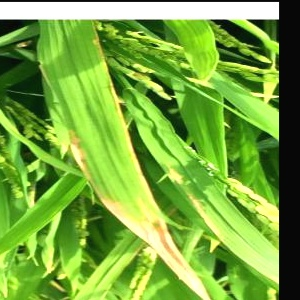Leaf_Blast: (70, 81, 135, 230)
